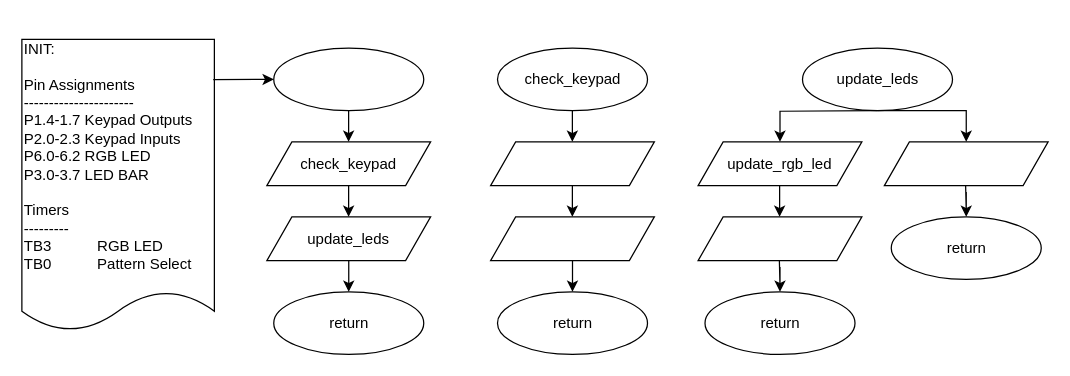
Image size: 1070x376. Some labels were removed from this diagram. Here are the shapes that lost their labels. From the top down, the centre of each, then its label:
(348,79): main
(571,163): get_key
(965,163): update_led_bar
(571,238): get_column
(779,238): set_rgb_led_pwm
